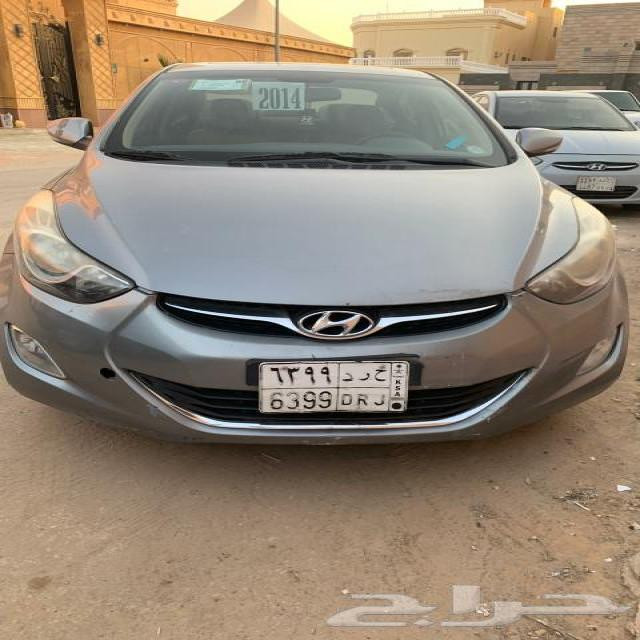license_plate: (255, 358, 413, 416)
